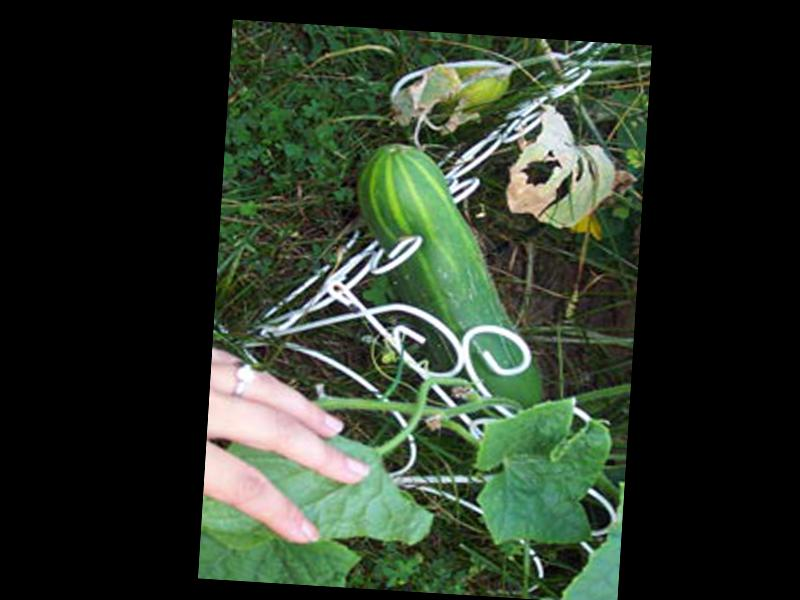Cucumber: (345, 141, 558, 413)
